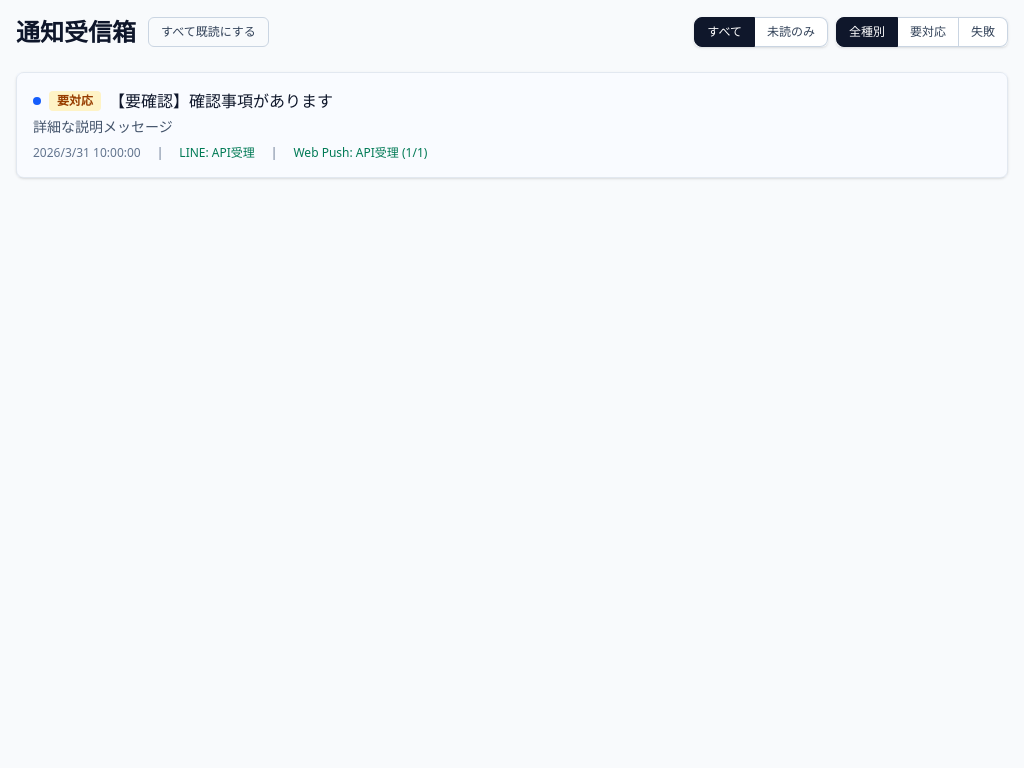
it: NotificationsPage › shows the notification content and an error when marking it read fails
Click the heading "【要確認】確認事項があります".
click(221, 101)  # box [109,89,333,113]
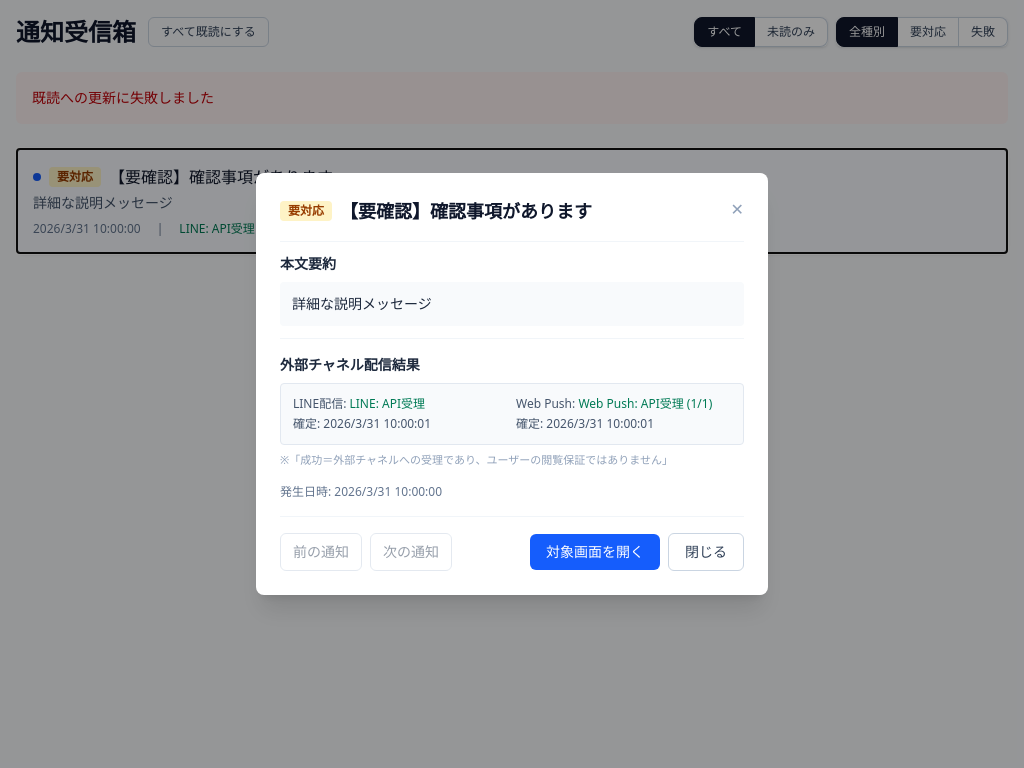
Expected: the 1st text "詳細な説明メッセージ" is shown, [33,193,173,212]
Expected: the message "既読への更新に失敗しました" is shown, [16,72,1008,124]
